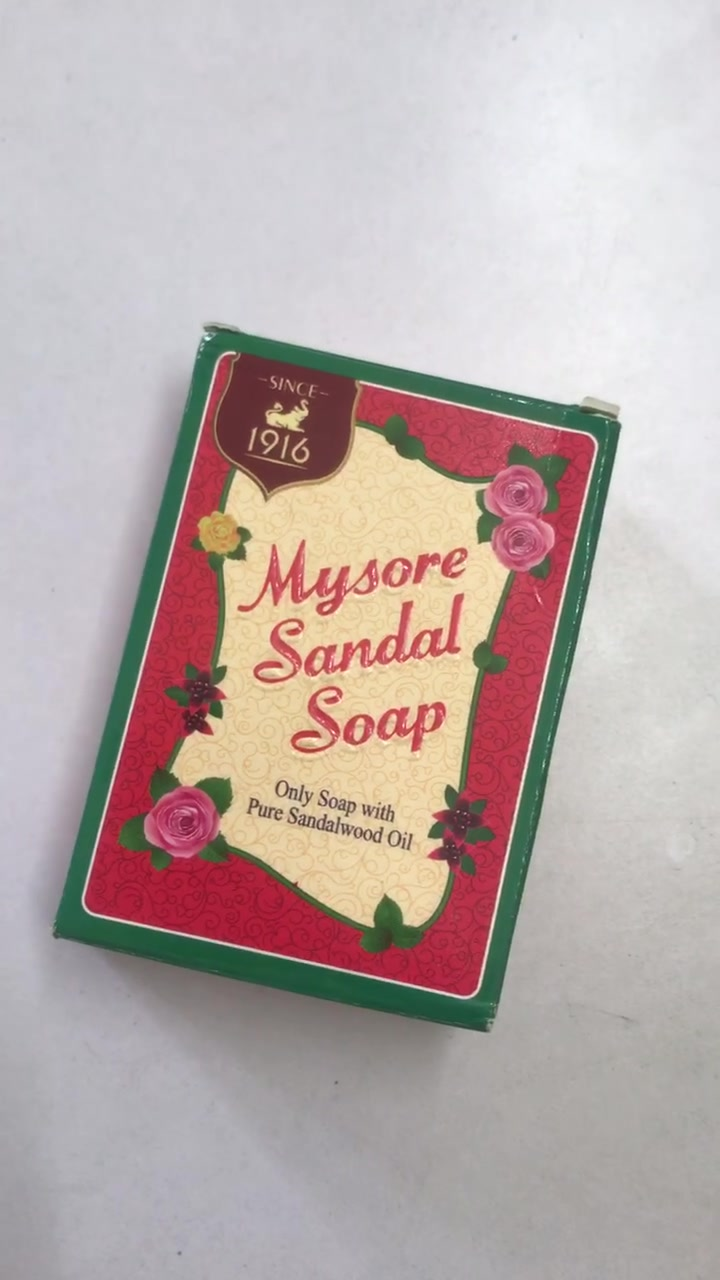mysore sandal soap: (51, 330, 620, 1031)
